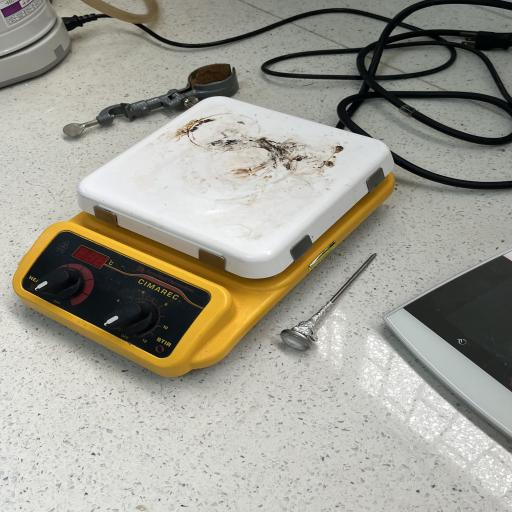Plancha_Agitacion_Cimarec: (9, 90, 402, 394)
